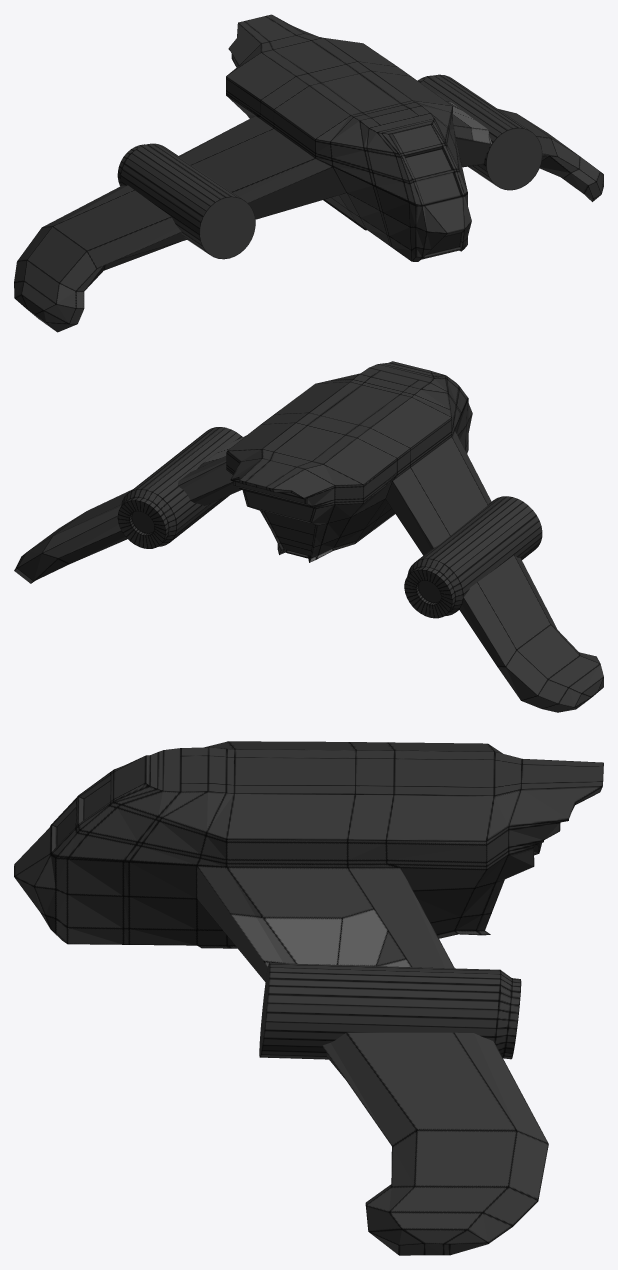
Rendered from GhostShips-c.obj.
The picture shows the model from 3 angles, top to bottom: view 1: azimuth 30°, elevation 25°; view 2: azimuth 150°, elevation 25°; view 3: azimuth 270°, elevation 25°; orthographic projection. The views are drawn at different scales.
Parts seen in each view (by area): view 1: Cube; view 2: Cube; view 3: Cube.
Boxes of the visible parts, x1,y1,x2,y2 form: Cube: [14, 14, 603, 332]; Cube: [14, 361, 603, 712]; Cube: [14, 741, 603, 1255].
Bounding box in the file's own units: 20.06 × 6.88 × 12.44.
